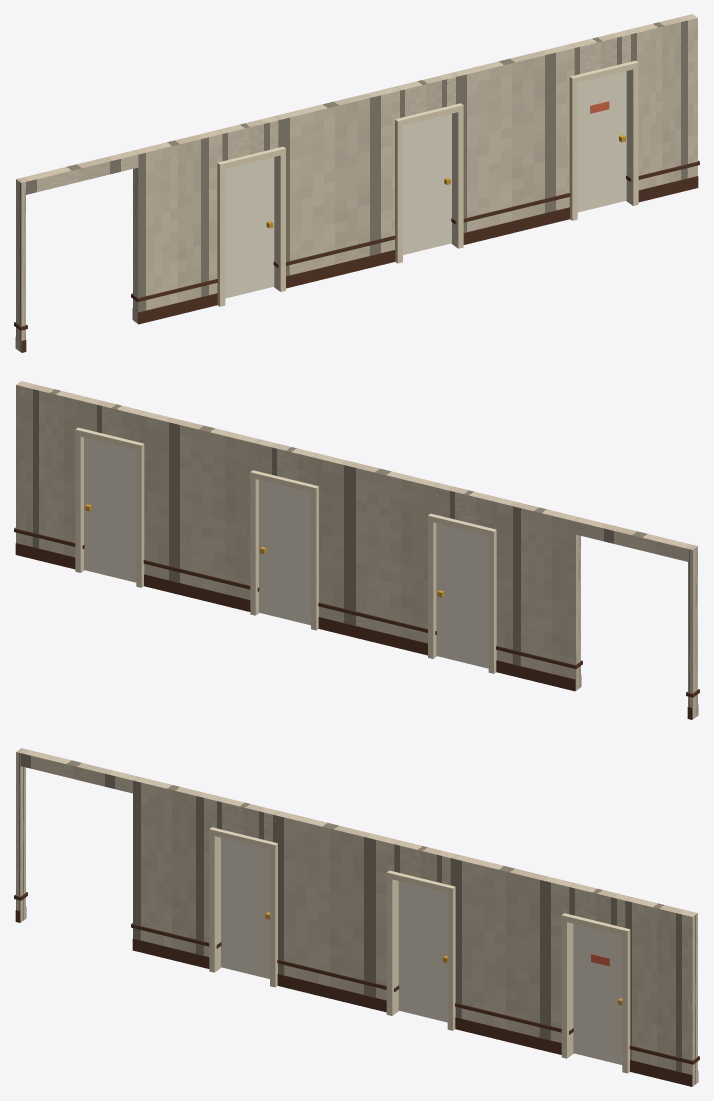
Rendered from hall_back.glb.
3 views of the same model, one above another, from view 1: azimuth 30°, elevation 25°; view 2: azimuth 150°, elevation 25°; view 3: azimuth 330°, elevation 25° (orthographic).
Visible parts, largest first — view 1: Box7, Box5, Box3, Box9, Box31, Box25, Box18, Box11, Box12, Box14, Box13, Box16 (+15 smaller); view 2: Box7, Box5, Box3, Box9, Box18, Box31, Box25, Box11, Box12, Box14, Box13, Box1 (+13 smaller); view 3: Box5, Box7, Box3, Box9, Box25, Box31, Box18, Box11, Box13, Box14, Box12, Box22 (+13 smaller).
Boxes of the visible parts, x1,y1,x2,y2 form: Box7: [451, 44, 574, 232]; Box5: [273, 87, 399, 275]; Box3: [133, 130, 222, 323]; Box9: [626, 14, 697, 190]; Box31: [225, 157, 274, 298]; Box25: [403, 113, 451, 254]; Box18: [577, 71, 626, 212]; Box11: [21, 150, 138, 194]; Box12: [217, 116, 278, 161]; Box14: [569, 30, 630, 75]; Box13: [395, 73, 455, 117]; Box16: [626, 60, 638, 205]; Box7: [139, 411, 262, 599]; Box5: [314, 454, 440, 642]; Box3: [491, 497, 580, 690]; Box9: [16, 381, 87, 557]; Box18: [84, 437, 136, 582]; Box31: [436, 523, 488, 668]; Box25: [259, 480, 310, 625]; Box11: [575, 517, 692, 561]; Box12: [435, 483, 496, 528]; Box14: [83, 397, 144, 442]; Box13: [258, 440, 318, 484]; Box1: [688, 545, 697, 719]; Box5: [273, 811, 399, 1000]; Box7: [450, 854, 574, 1042]; Box3: [133, 776, 221, 956]; Box9: [625, 897, 697, 1086]; Box25: [398, 881, 447, 1022]; Box31: [221, 837, 269, 978]; Box18: [573, 923, 622, 1064]; Box11: [20, 749, 137, 793]; Box13: [394, 840, 455, 885]; Box14: [569, 883, 630, 927]; Box12: [217, 797, 277, 841]; Box22: [386, 870, 398, 1015].
Size of the model in its own units: 10.89 by 2.6 by 0.3.
Materials: 6 (1 with a texture image).
